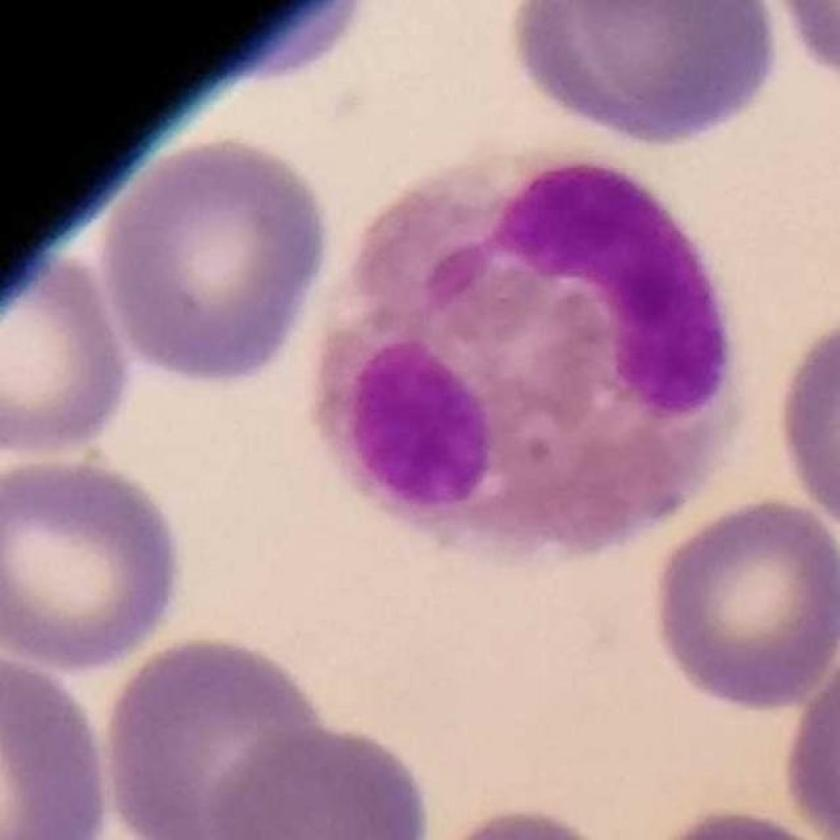eosinophil: (306, 142, 743, 570)
